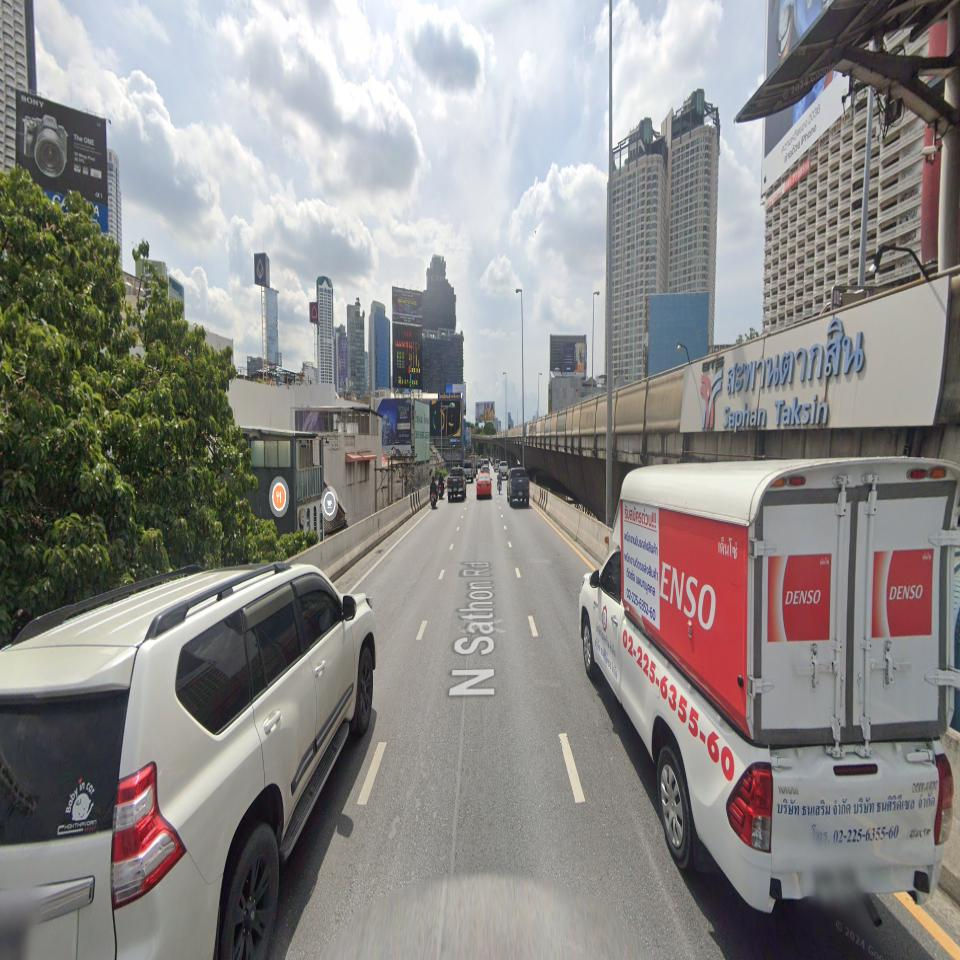Saphan Taksin: (699, 314, 867, 436), (723, 316, 866, 436)
